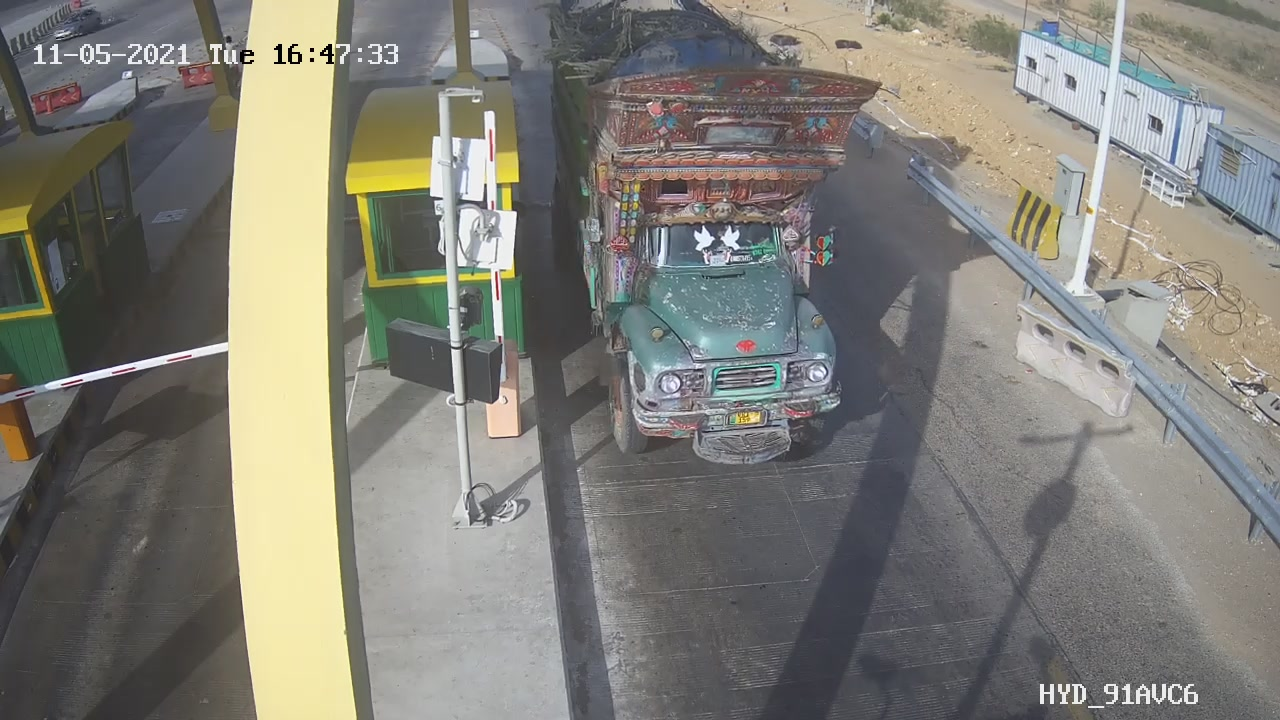F5: (531, 3, 905, 495)
